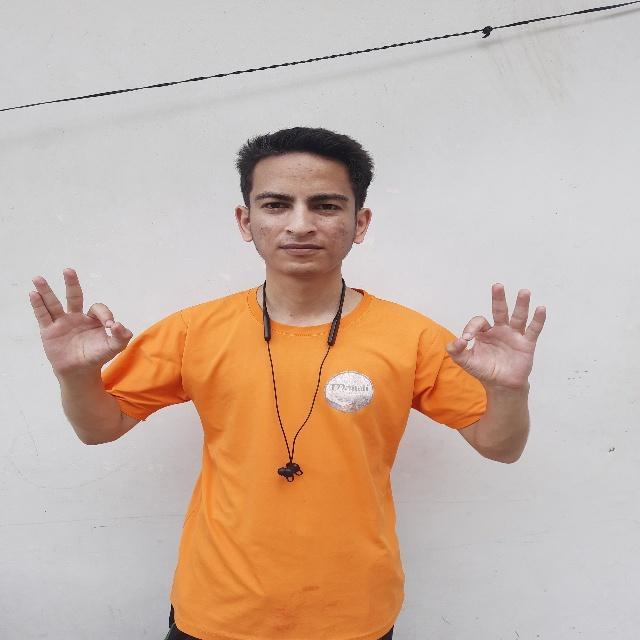Okay: (22, 263, 136, 387), (442, 273, 552, 398)
